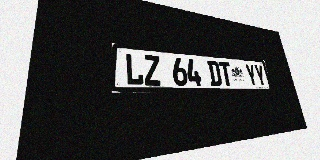4: (185, 58, 202, 86)
6: (171, 57, 188, 86)
D: (207, 60, 222, 86)
L: (125, 53, 144, 85)
T: (218, 61, 233, 86)
Y: (244, 64, 258, 86), (253, 64, 267, 86)
Z: (143, 55, 162, 86)
